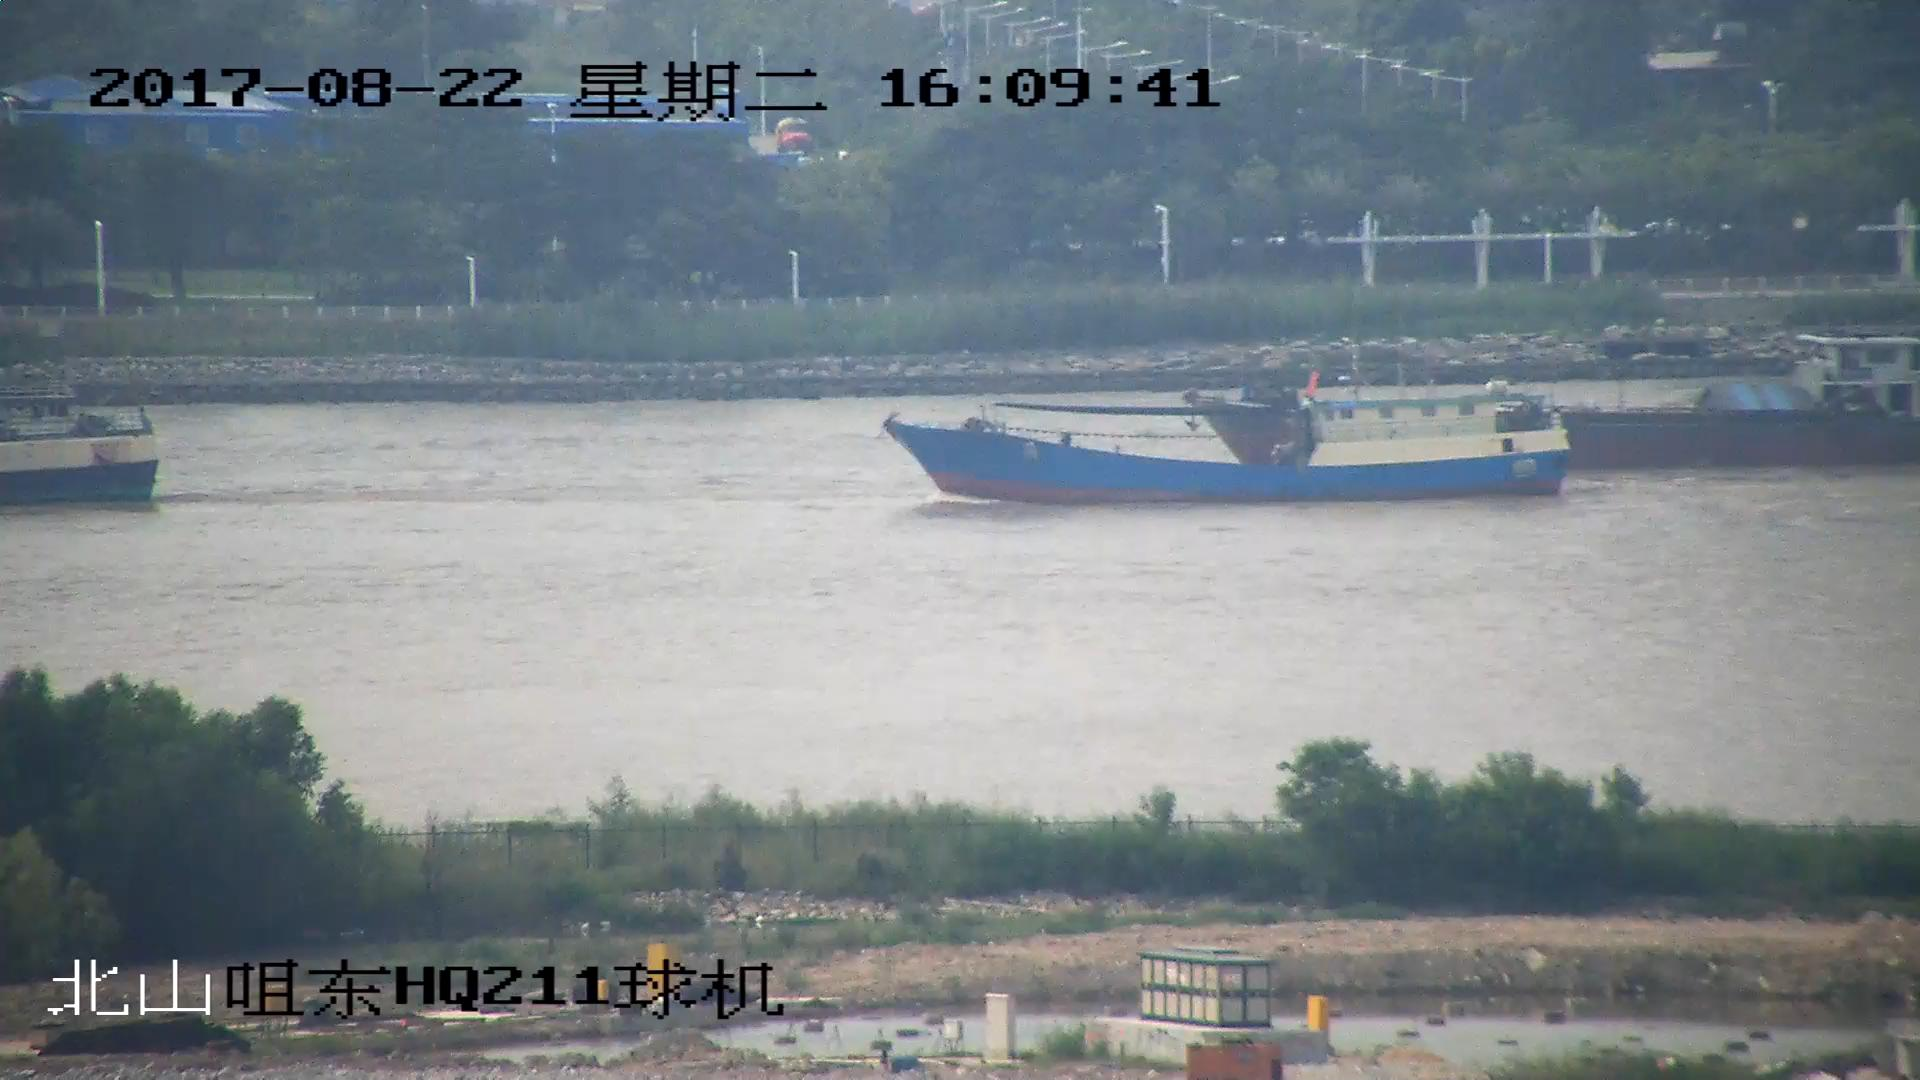bulk cargo carrier: (1191, 339, 1920, 469)
fishing boat: (887, 373, 1567, 507), (1, 373, 157, 511)
